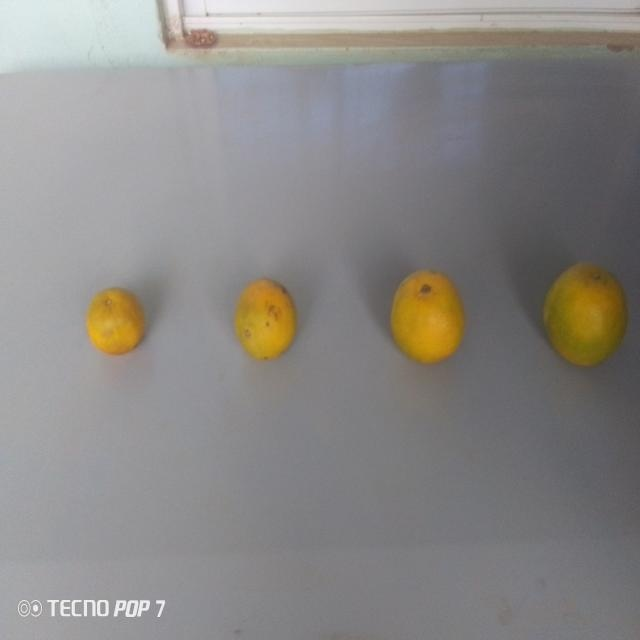agrume: (536, 248, 629, 374), (382, 264, 470, 370), (228, 275, 300, 369), (82, 280, 148, 357)
